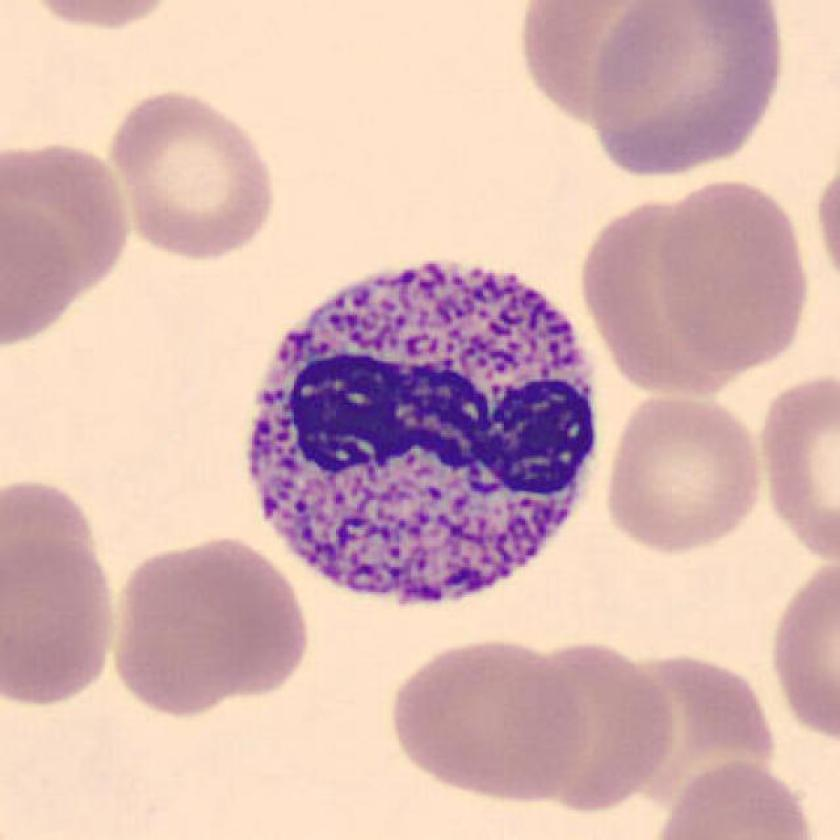neutrophil: (249, 266, 597, 604)
